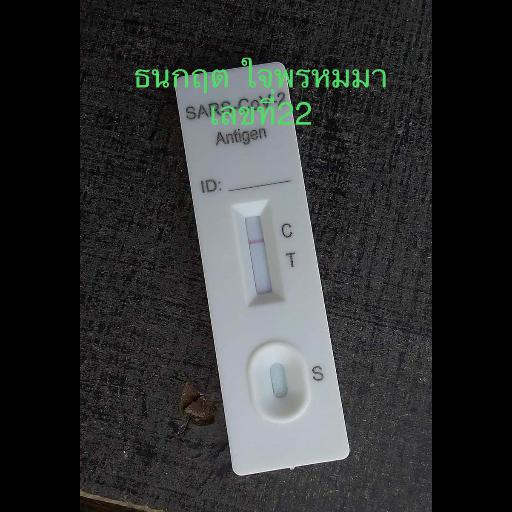Neg: (174, 61, 351, 476)
